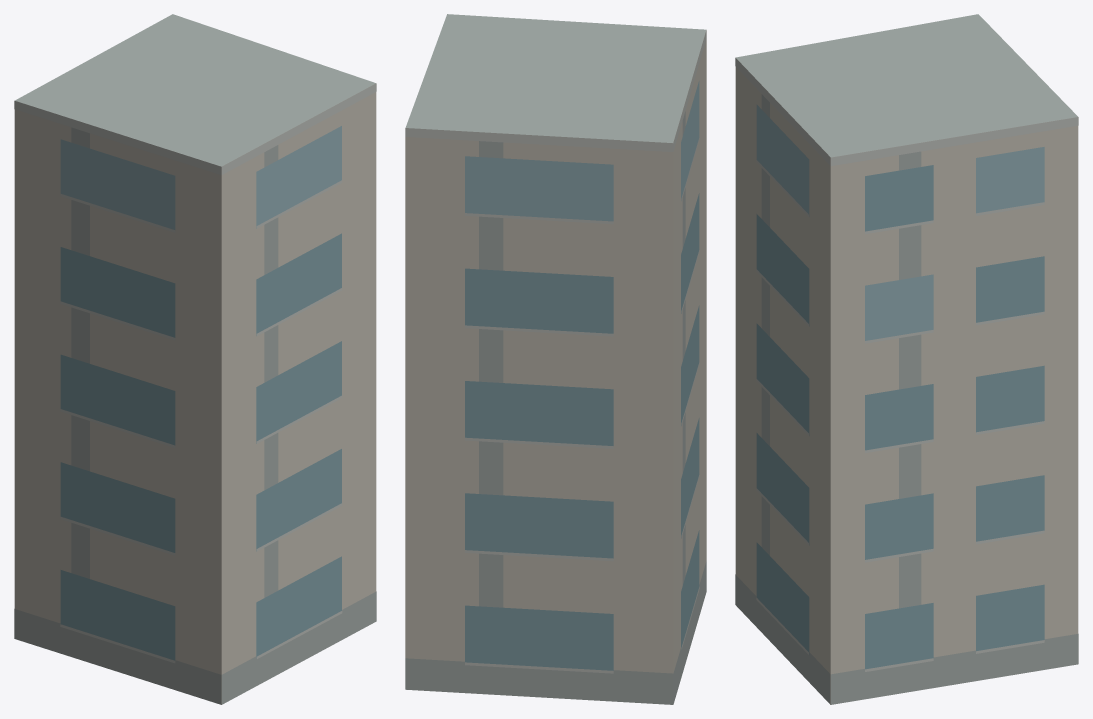
Rendered from survey-upis-32707777.glb.
The picture shows the model from 3 angles, left to right: view 1: azimuth 30°, elevation 25°; view 2: azimuth 150°, elevation 25°; view 3: azimuth 270°, elevation 25°; orthographic projection. The views are drawn at different scales.
Parts seen in each view (by area): view 1: survey-upis-32707777.tmp; view 2: survey-upis-32707777.tmp; view 3: survey-upis-32707777.tmp.
Part boxes in pixels (left/top/right/bottom): survey-upis-32707777.tmp: left=14, top=14, right=376, bottom=704; survey-upis-32707777.tmp: left=405, top=14, right=706, bottom=704; survey-upis-32707777.tmp: left=735, top=14, right=1078, bottom=704.
Size of the model in its own units: 8.59 by 15.25 by 8.67.
